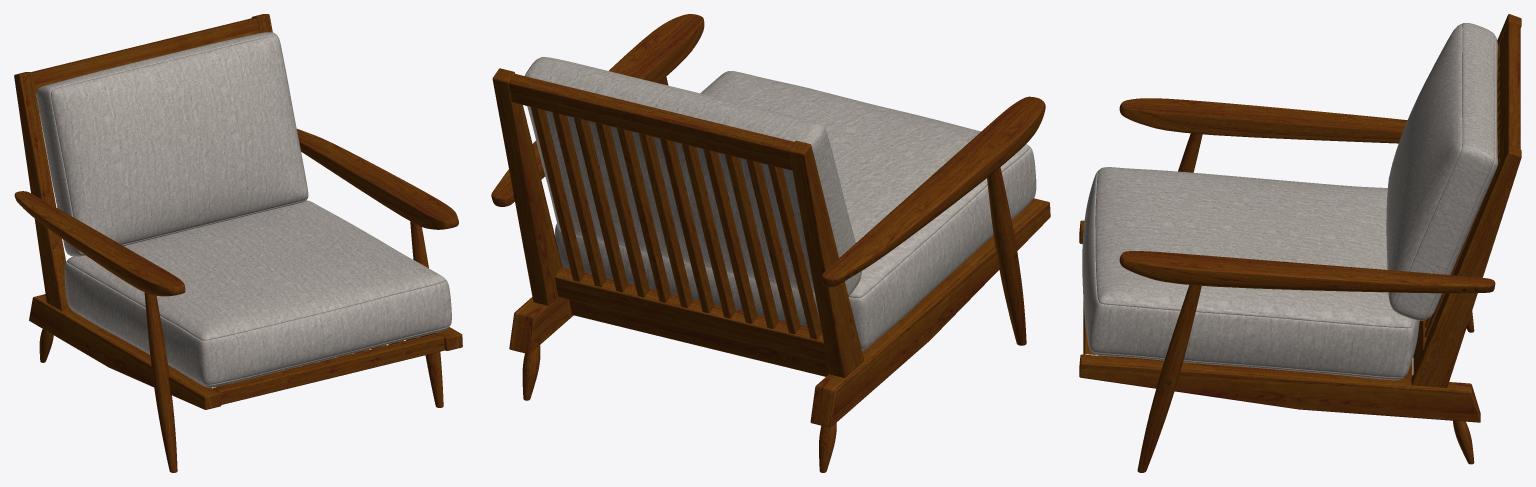
File: chair_clean.glb
The picture shows the model from 3 angles, left to right: view 1: azimuth 30°, elevation 25°; view 2: azimuth 150°, elevation 25°; view 3: azimuth 270°, elevation 25°; orthographic projection. The views are drawn at different scales.
Visible parts, largest first — view 1: Box064; view 2: Box064; view 3: Box064.
Part boxes in pixels (<box>): Box064: <box>14,14,462,472</box>; Box064: <box>491,14,1050,472</box>; Box064: <box>1079,14,1521,472</box>.
Size of the model in its own units: 0.7619 by 0.6593 by 0.8414.
3 materials, 3 textured.
